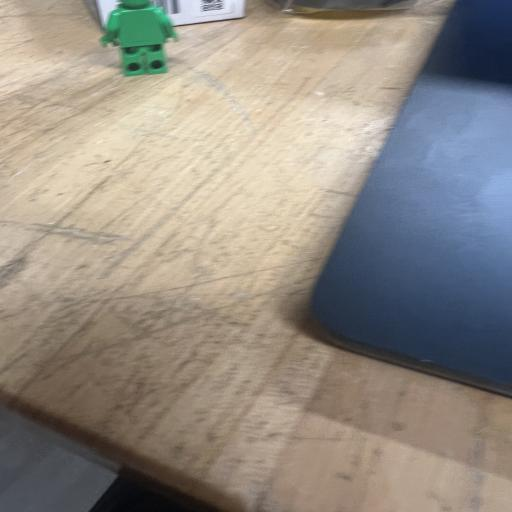green-lego-minifigure-detector: (101, 0, 178, 76)
